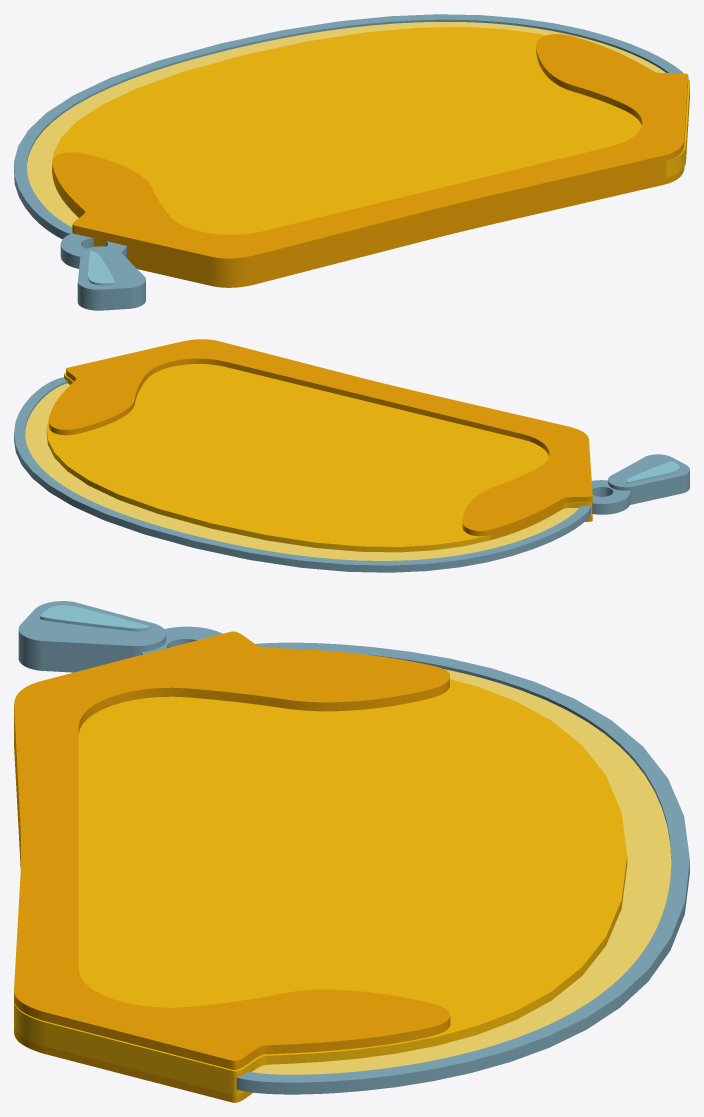
File: emoji_u1f45d.glb
3 views of the same model, one above another, from view 1: azimuth 30°, elevation 25°; view 2: azimuth 150°, elevation 25°; view 3: azimuth 270°, elevation 25° (orthographic). The views are drawn at different scales.
Visible parts, largest first — view 1: emoji_u1f45d; view 2: emoji_u1f45d; view 3: emoji_u1f45d.
Boxes of the visible parts, box(x1,y1,x2,y2) form: emoji_u1f45d: box(14, 14, 689, 310); emoji_u1f45d: box(14, 339, 689, 572); emoji_u1f45d: box(14, 601, 689, 1102).
Bounding box in the file's own units: 0.0339 × 0.0014 × 0.0205.
